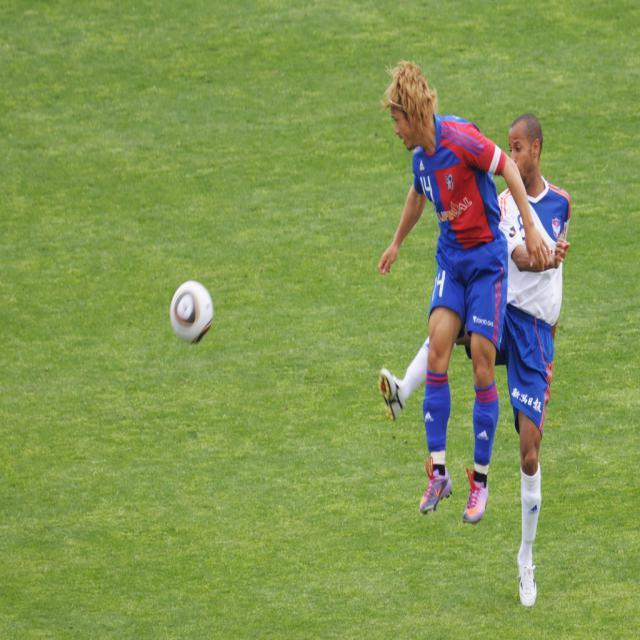football: (148, 271, 224, 347)
